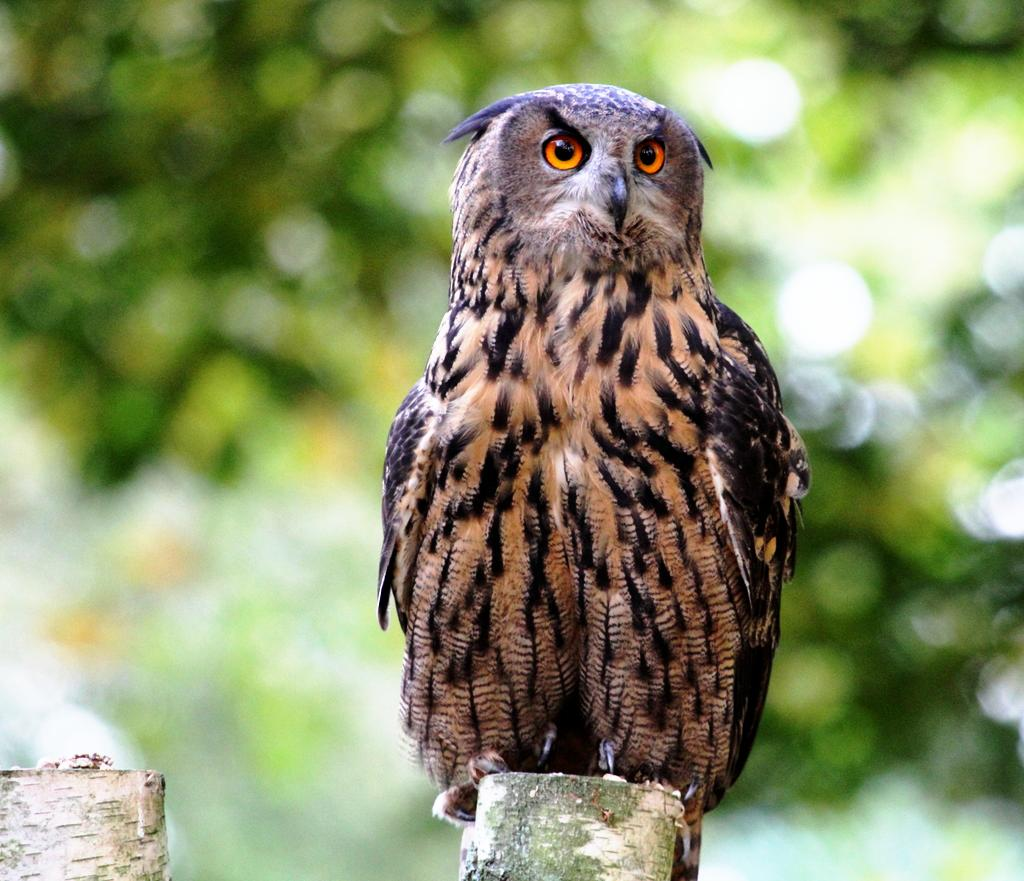Owl: (373, 79, 814, 880)
